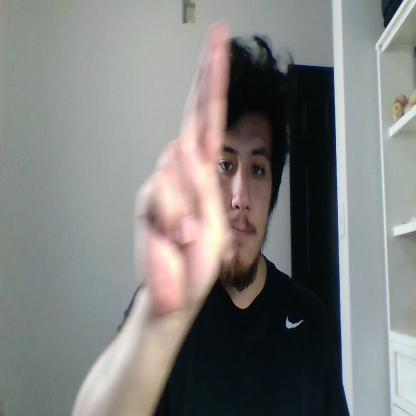R: (135, 23, 228, 315)
